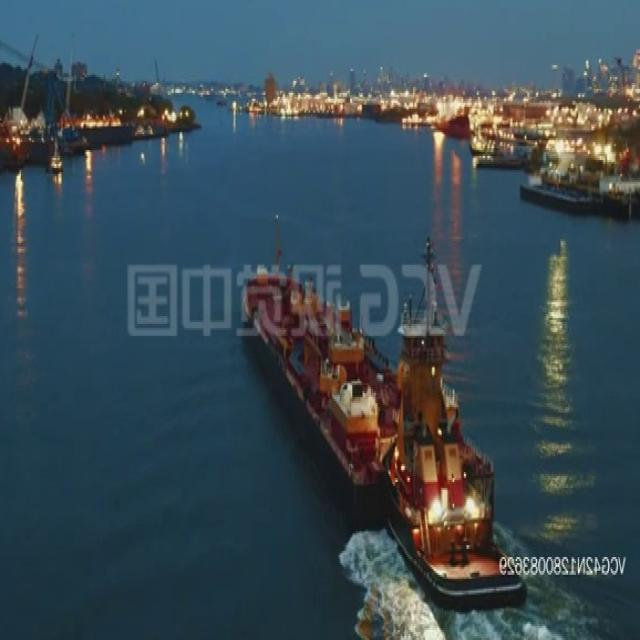cargoship: (242, 260, 519, 600)
